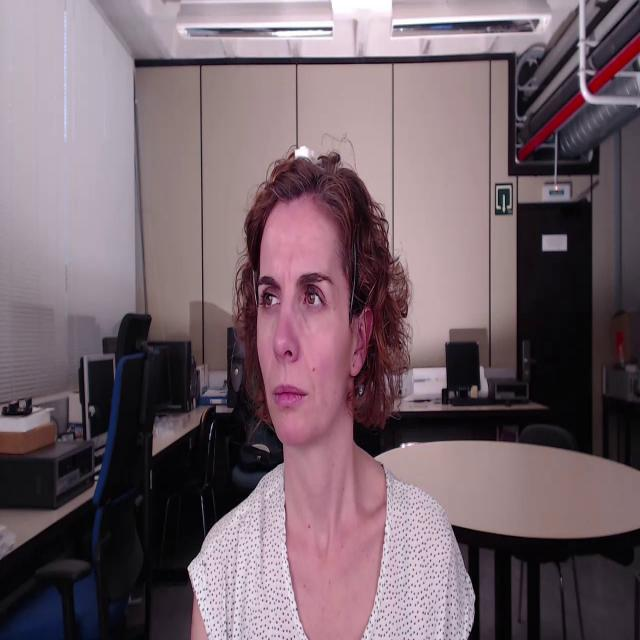eye: (300, 286, 328, 313), (259, 290, 282, 311)
gaze: (307, 292, 315, 306), (265, 294, 273, 307)
